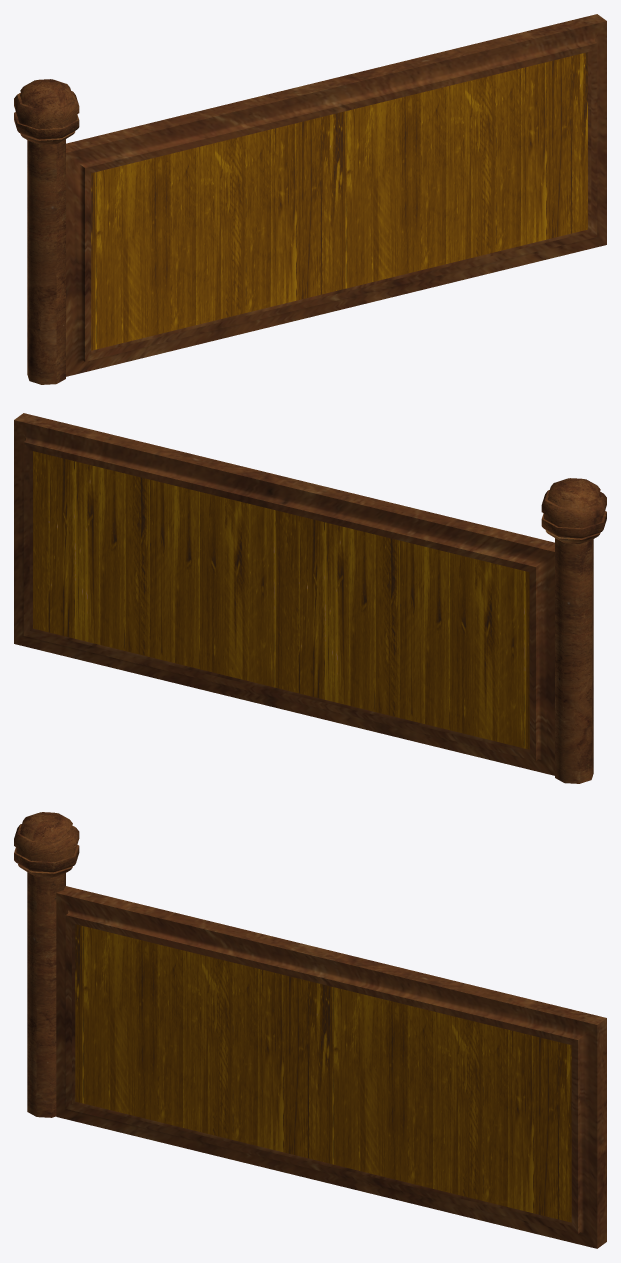
File: MesaSeparador.fbx
3 views of the same model, one above another, from view 1: azimuth 30°, elevation 25°; view 2: azimuth 150°, elevation 25°; view 3: azimuth 330°, elevation 25° (orthographic).
Visible parts, largest first — view 1: MesaSeparador; view 2: MesaSeparador; view 3: MesaSeparador.
Boxes of the visible parts, x1,y1,x2,y2 form: MesaSeparador: (14,14,606,384); MesaSeparador: (14,413,606,783); MesaSeparador: (14,812,606,1248).
Size of the model in its own units: 223 by 106 by 22.28.
